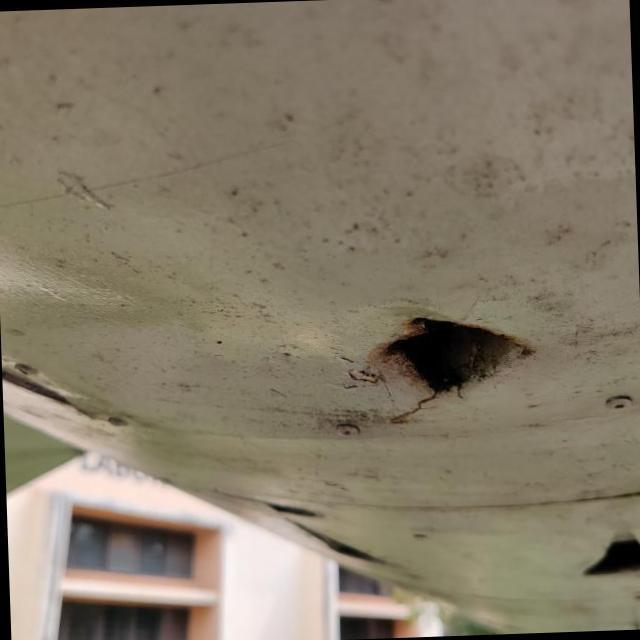Rupture: (360, 293, 550, 434)
